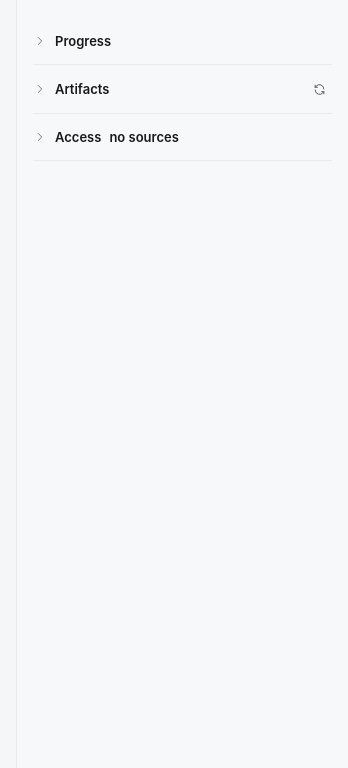
Test: RightRail Artifacts — which root a file is in › shows no label at all when the backend sends no root (older payloads)
Step 1. Click the button with test id "rail-toggle-artifacts" → {"x": 82, "y": 89}, box [33,81,298,97]
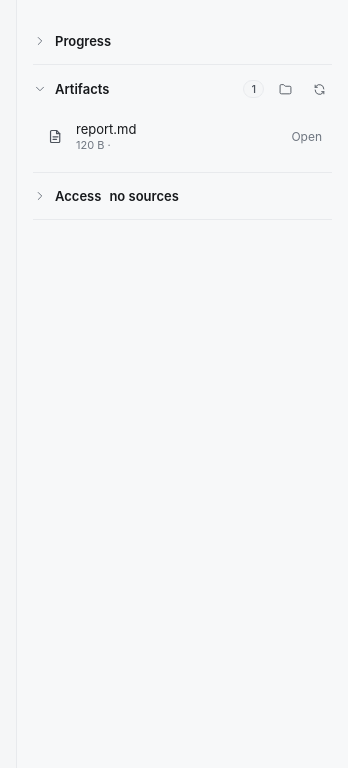
Expected: the text "report.md" is shown, [76,121,136,137]
